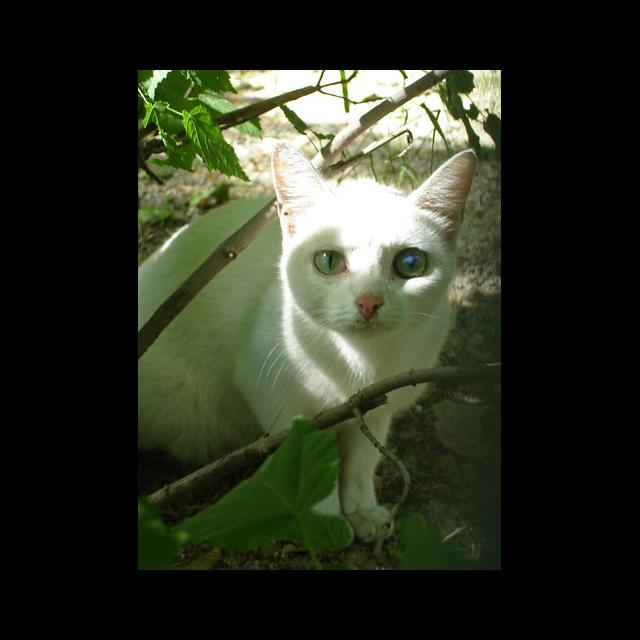animals: (138, 140, 478, 545)
